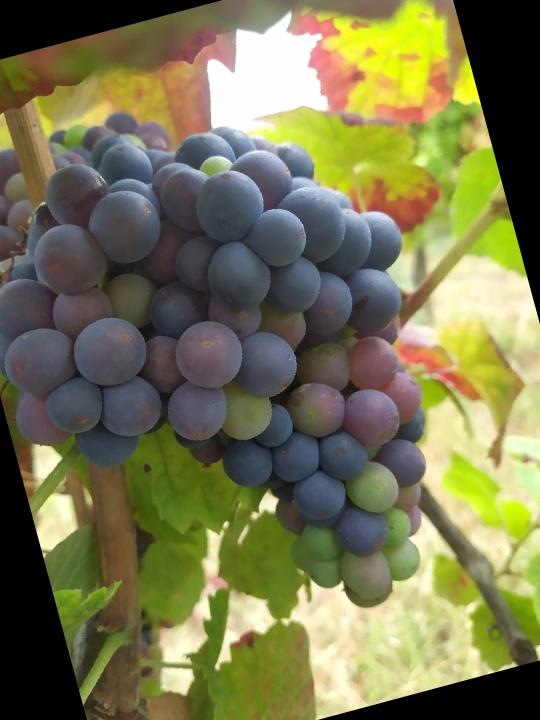grape: (0, 74, 498, 688)
